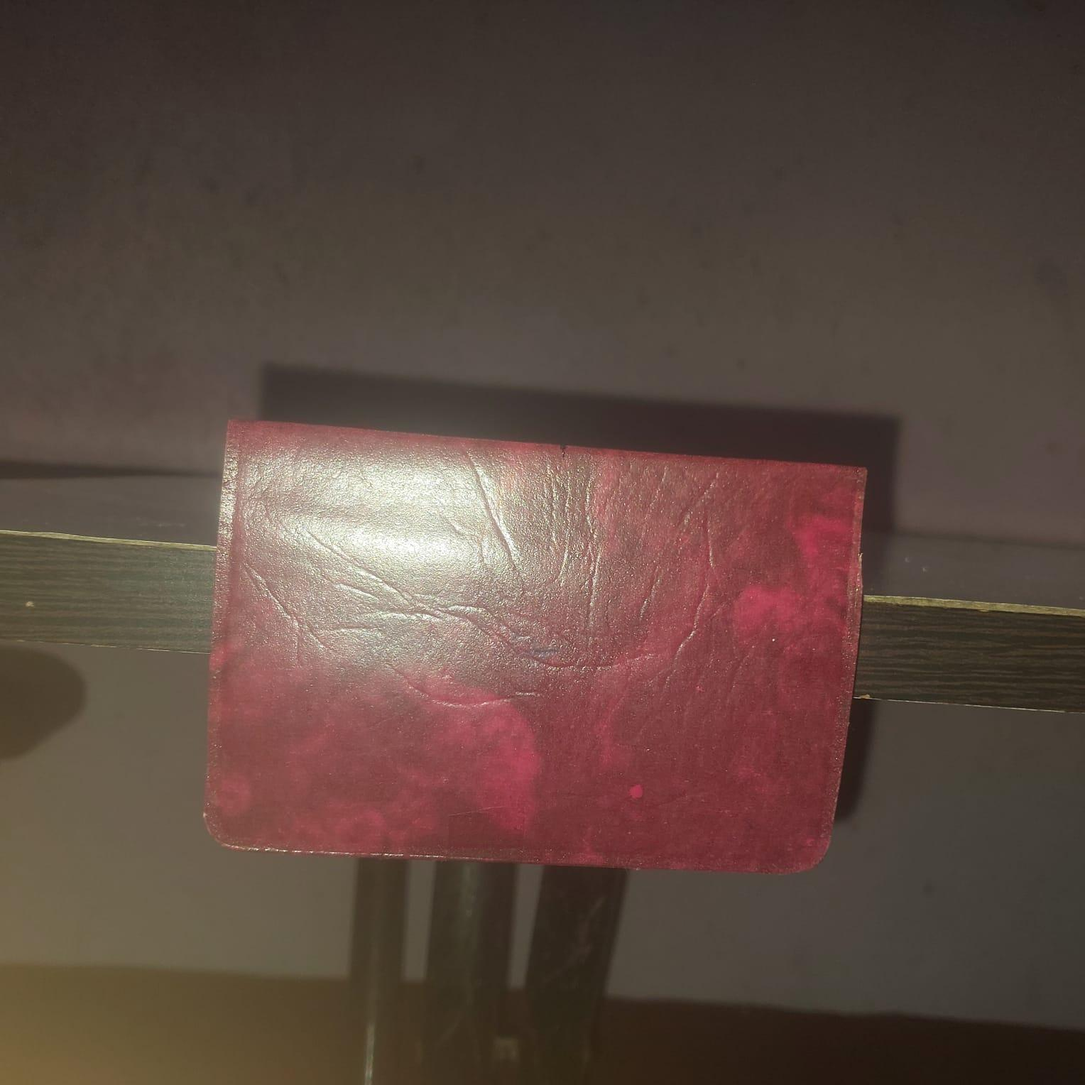wallet: (205, 420, 871, 883)
